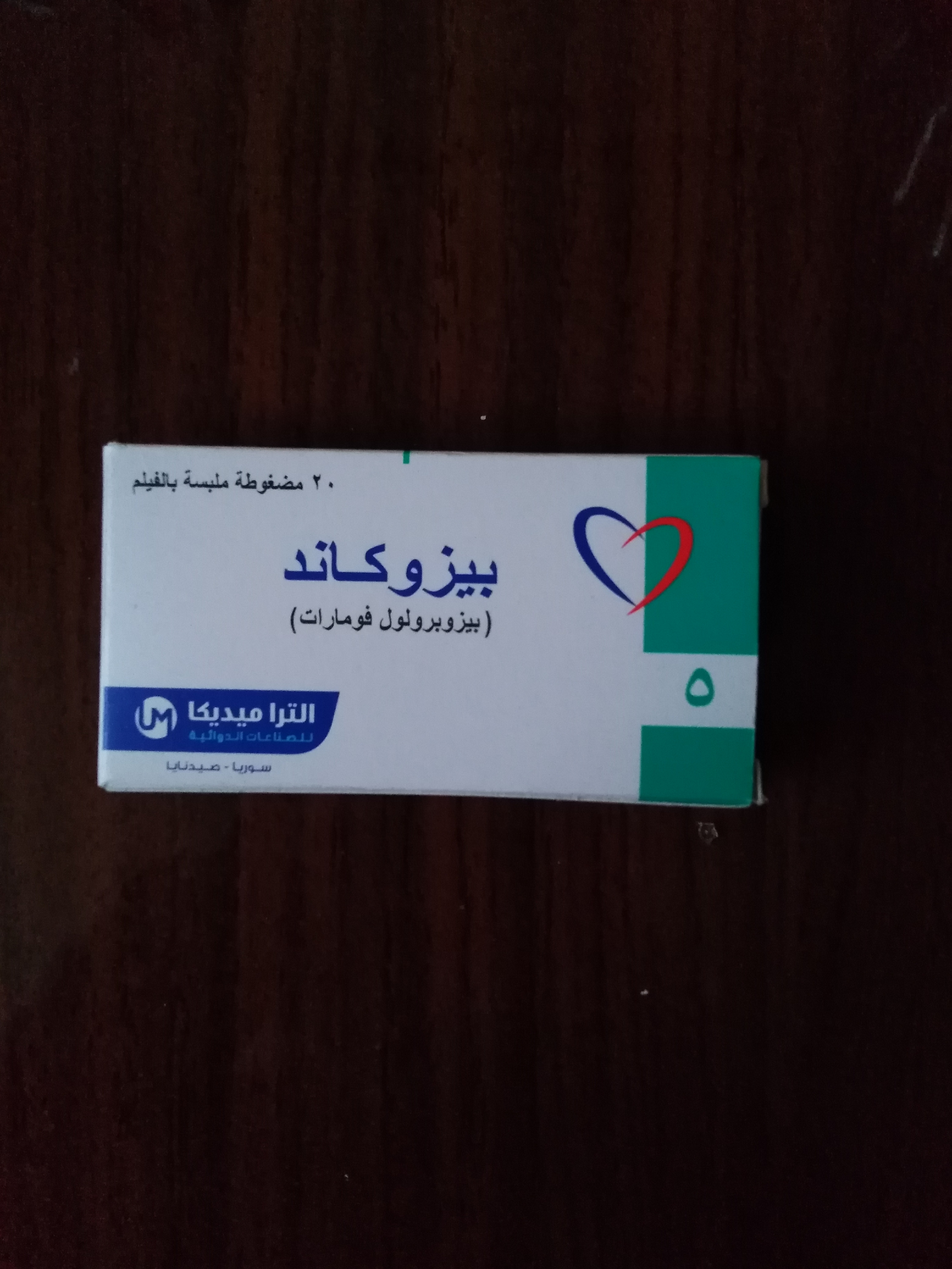Medicine: (79, 409, 771, 853)
